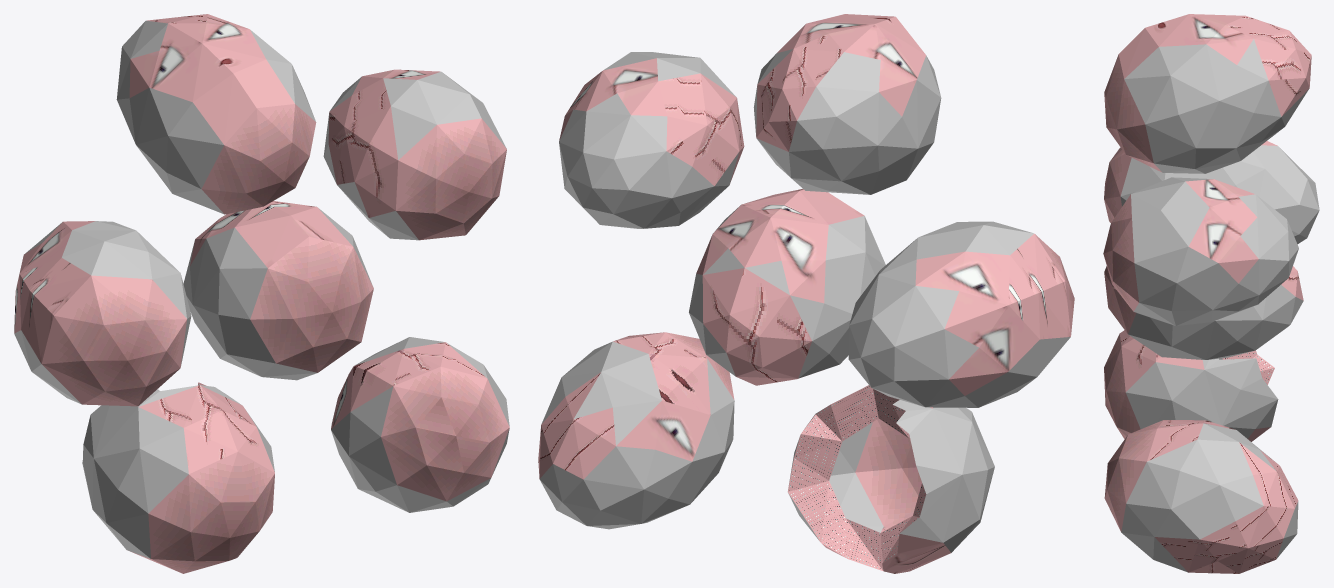
Rendered from BR_Exeggcute.obj.
The picture shows the model from 3 angles, left to right: view 1: azimuth 30°, elevation 25°; view 2: azimuth 150°, elevation 25°; view 3: azimuth 270°, elevation 25°; orthographic projection. The views are drawn at different scales.
Visible parts, largest first — view 1: tamatama; view 2: tamatama; view 3: tamatama.
Boxes of the visible parts, bbox=[...] form: tamatama: bbox=[14, 14, 509, 573]; tamatama: bbox=[538, 14, 1074, 573]; tamatama: bbox=[1103, 14, 1319, 573].
Size of the model in its own units: 9.08 by 9.53 by 4.08.
